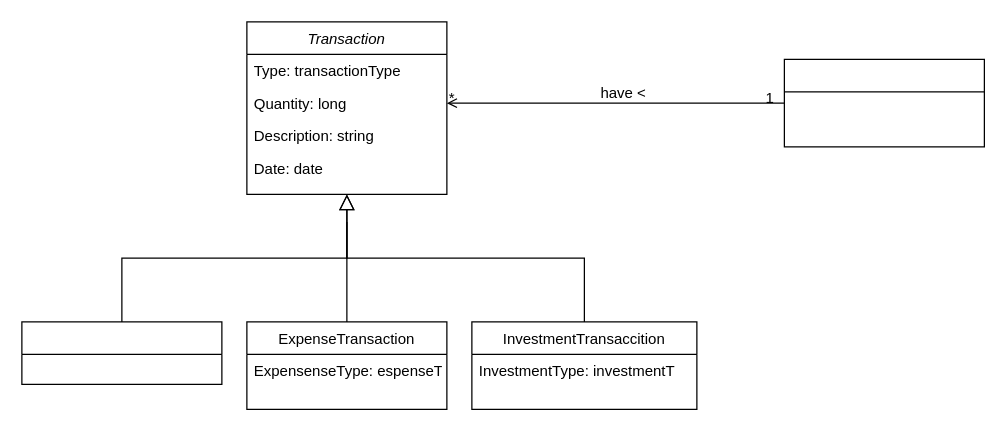
Some shapes in this 1006 by 431 pixel diagram are drawn without their labels. Each missing label, with the centre of its shape:
"BenefitTransaction" goes at point 121,352.
"User" goes at point 883,102.
